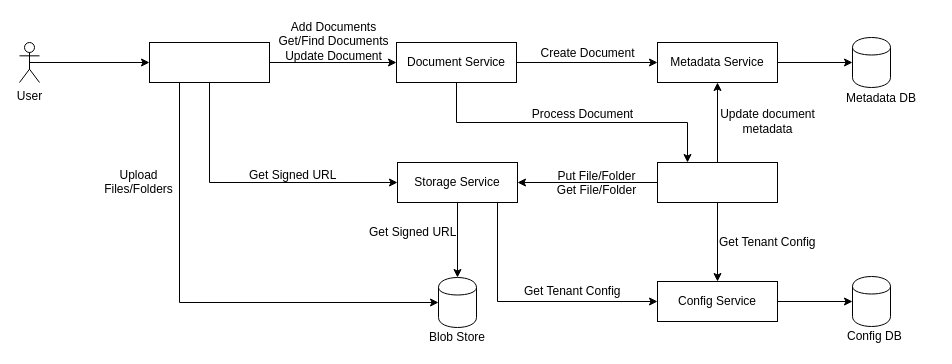
Image size: 952x364. Some labels were removed from this diagram. The centre of each missing label's shape, as x and y in pixels:
"Extraction Engine" belongs at (717,182).
"Portal / Browser" belongs at (209,62).
